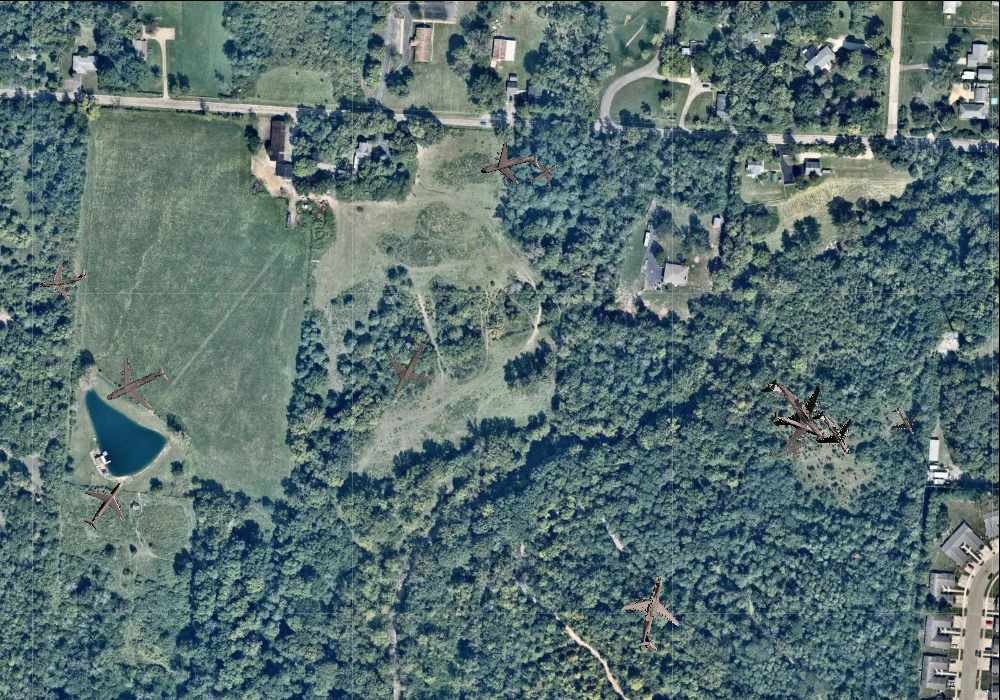plane: (744, 357, 849, 463), (610, 570, 696, 658), (92, 342, 179, 428), (368, 327, 448, 408), (68, 467, 142, 541), (473, 131, 545, 199), (799, 399, 867, 468), (763, 392, 830, 458), (34, 253, 90, 306), (763, 422, 817, 475), (520, 150, 566, 196), (883, 399, 926, 444)
